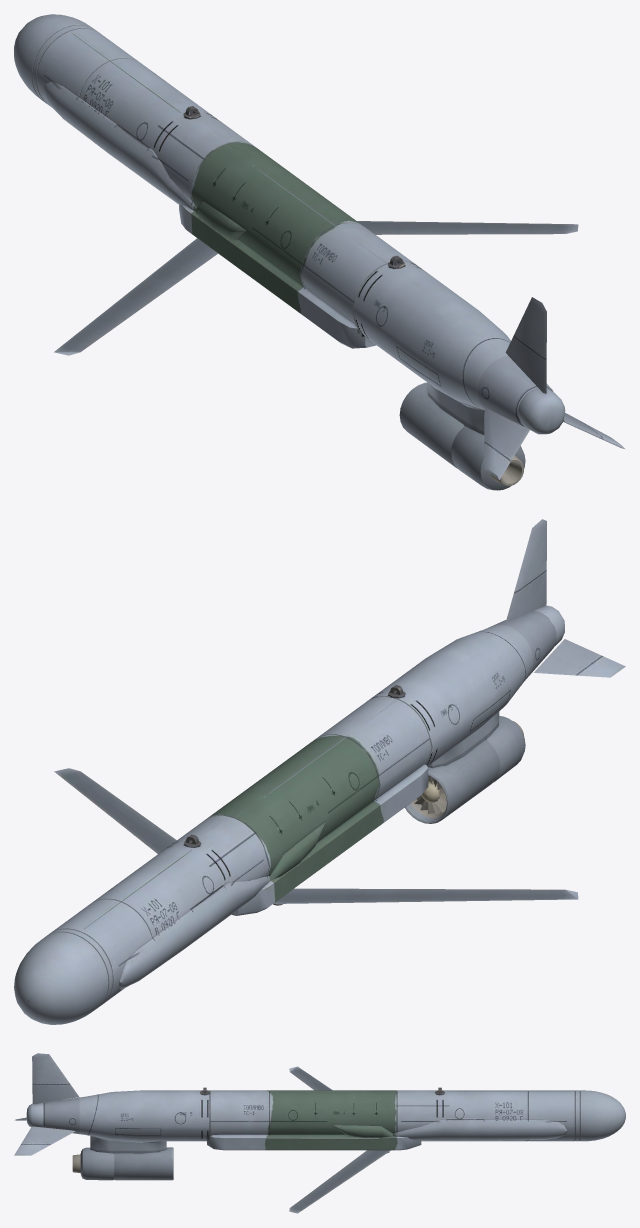
3 renders of one model, top to bottom at view 1: azimuth 30°, elevation 25°; view 2: azimuth 150°, elevation 25°; view 3: azimuth 270°, elevation 25°, orthographic. The views are drawn at different scales.
Parts seen in each view (by area): view 1: Object_6, Object_4; view 2: Object_6, Object_4; view 3: Object_6, Object_4.
Boxes of the visible parts, <box> form: Object_6: <box>14,14,625,490</box>; Object_4: <box>183,106,523,486</box>; Object_6: <box>14,519,625,1024</box>; Object_4: <box>184,685,524,905</box>; Object_6: <box>14,1053,625,1213</box>; Object_4: <box>72,1087,444,1172</box>.
Size of the model in its own units: 4.24 by 1.69 by 7.45.
2 materials, 2 textured.
